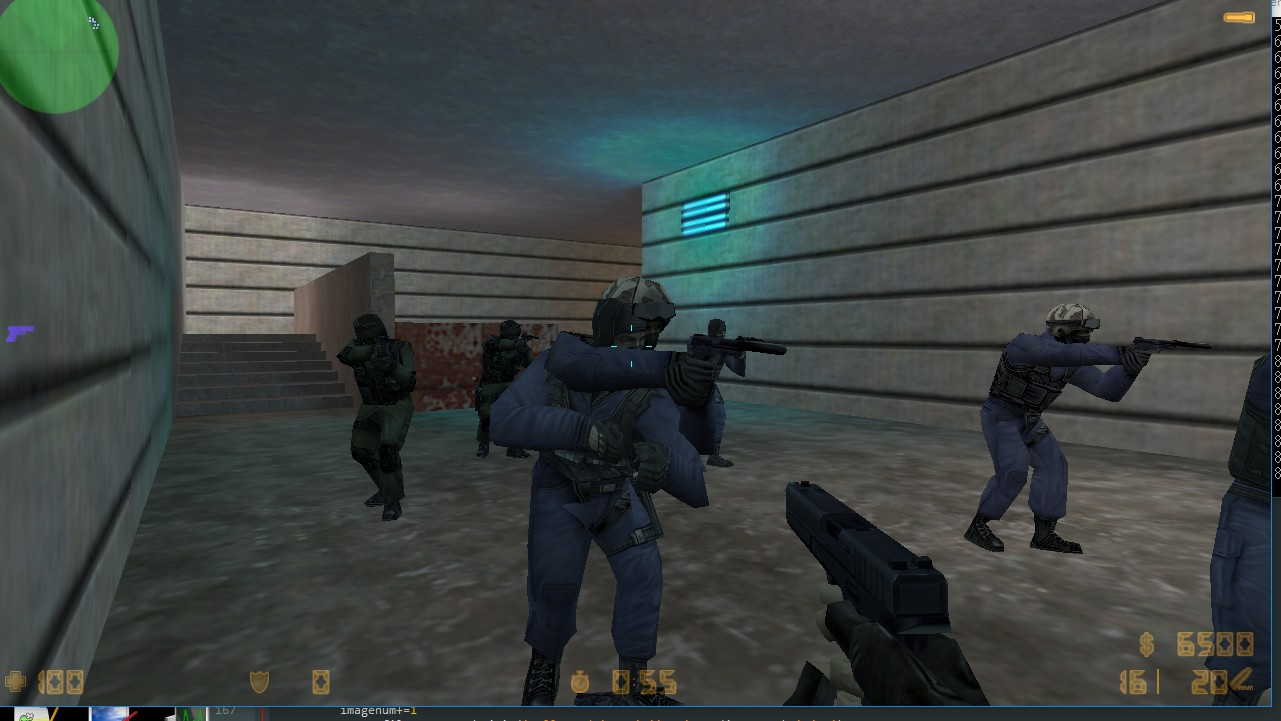person: (507, 273, 751, 704), (971, 290, 1115, 576), (333, 304, 422, 526), (689, 320, 771, 464), (473, 310, 536, 460)
